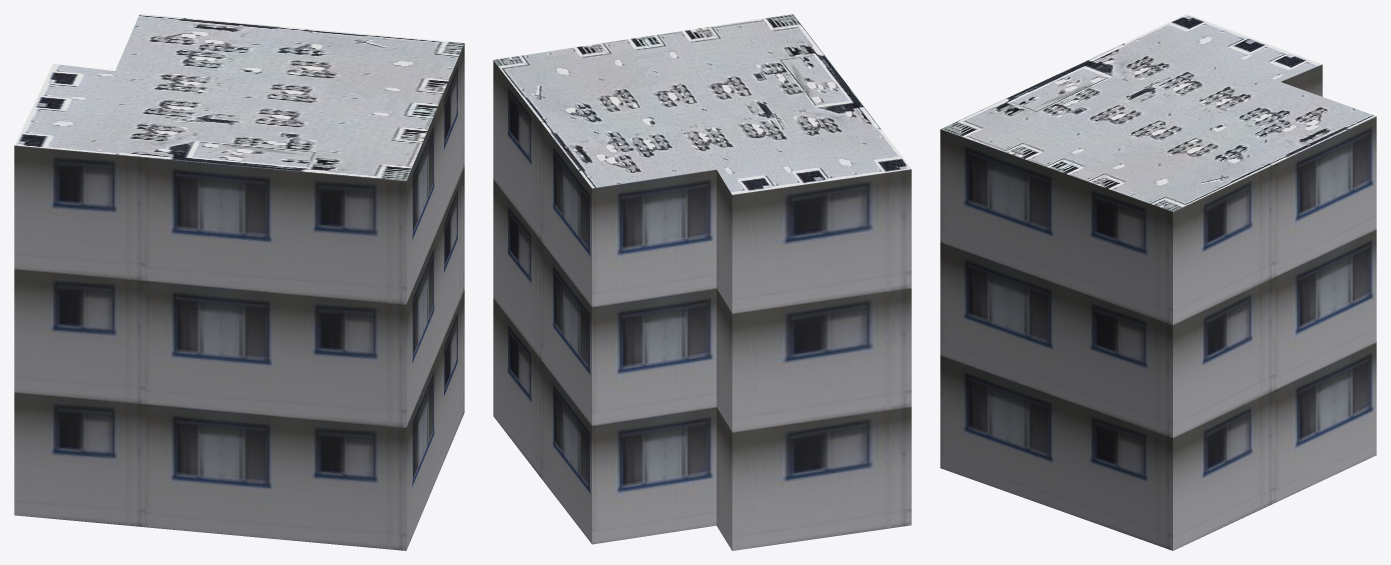
File: ResTex__1873.fbx
3 renders of one model, left to right at view 1: azimuth 30°, elevation 25°; view 2: azimuth 150°, elevation 25°; view 3: azimuth 270°, elevation 25°, orthographic. The views are drawn at different scales.
Parts seen in each view (by area): view 1: CityEngineMaterial_9_m, CityEngineMaterial_2_m; view 2: CityEngineMaterial_9_m, CityEngineMaterial_2_m; view 3: CityEngineMaterial_9_m, CityEngineMaterial_2_m.
Boxes of the visible parts, bbox=[...] form: CityEngineMaterial_9_m: bbox=[14, 43, 464, 550]; CityEngineMaterial_2_m: bbox=[14, 14, 464, 180]; CityEngineMaterial_9_m: bbox=[493, 60, 911, 550]; CityEngineMaterial_2_m: bbox=[493, 14, 911, 194]; CityEngineMaterial_9_m: bbox=[940, 64, 1376, 550]; CityEngineMaterial_2_m: bbox=[941, 14, 1375, 211].
Size of the model in its own units: 11.27 by 9 by 10.49.
2 materials, 2 textured.
